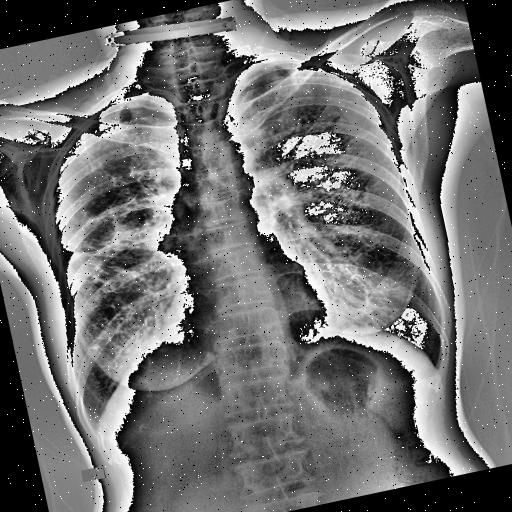11- Pleural thickening: (92, 87, 160, 113), (230, 59, 284, 89)
13- Pulmonary fibrosis: (30, 95, 213, 398), (46, 191, 160, 318), (57, 198, 152, 304)
5- ILD: (30, 95, 213, 398), (256, 64, 425, 300), (239, 68, 408, 289), (254, 60, 392, 230), (49, 104, 183, 240), (46, 191, 160, 318), (78, 115, 164, 201)
